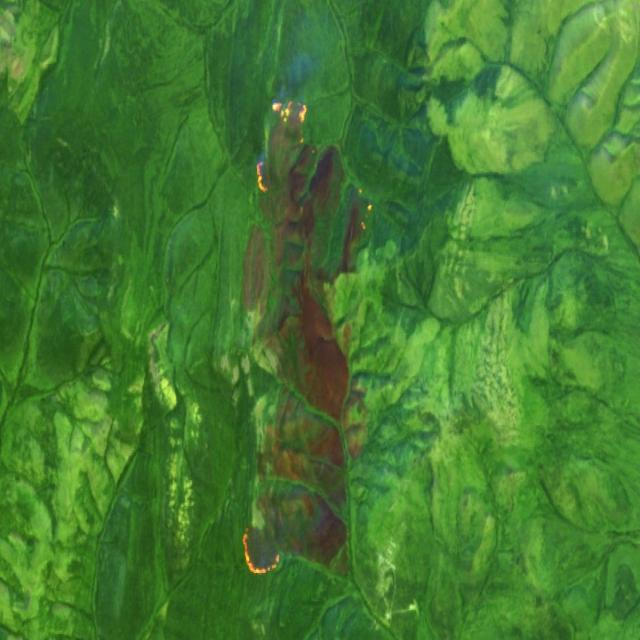fire: (254, 95, 310, 195), (229, 528, 291, 582), (355, 186, 375, 232)
